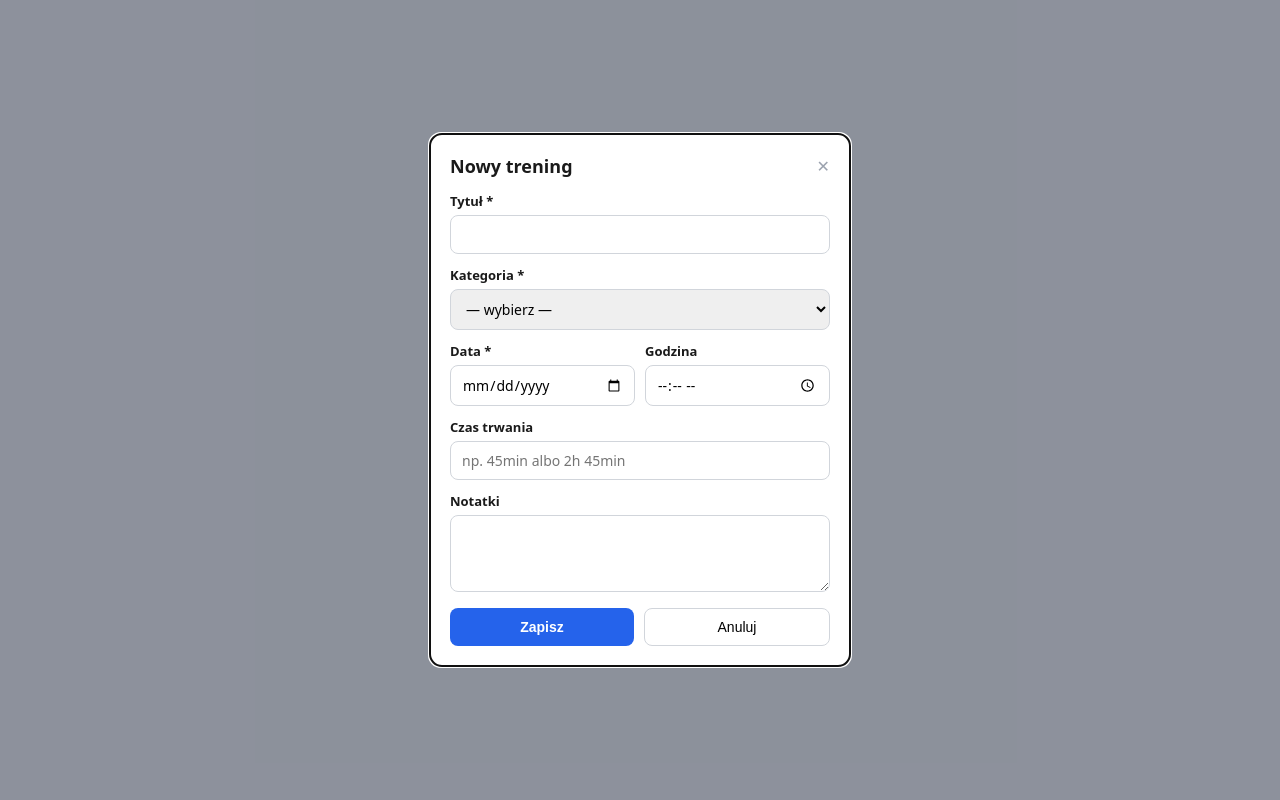
Test: TrainingPlanForm › pusty formularz pokazuje błędy wymaganych pól
The width and height of the screenshot is (1280, 800).
Click the button "Zapisz": (542, 627) 450,608 -> 634,646
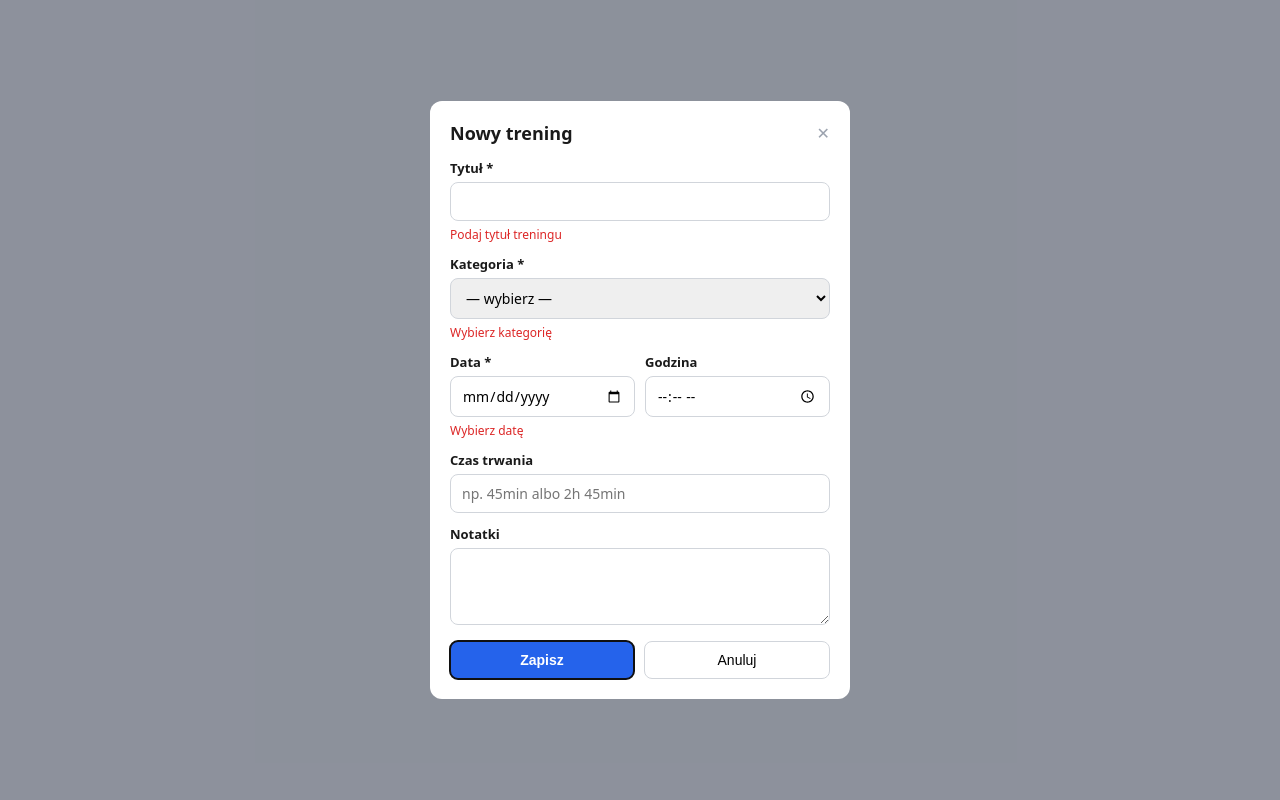
Check: the text "Podaj tytuł treningu" is shown, box 450,226 -> 562,243
Check: the text "Wybierz kategorię" is shown, box 450,324 -> 552,341
